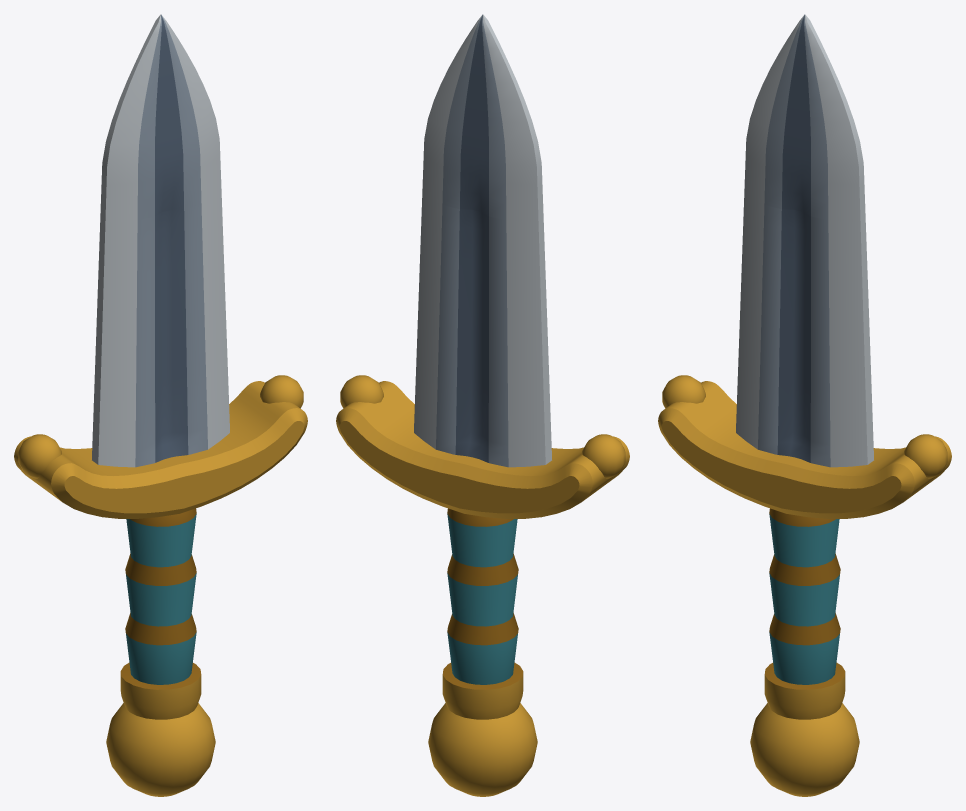
The model's file is Dagger_24.glb.
3 renders of one model, left to right at view 1: azimuth 30°, elevation 25°; view 2: azimuth 150°, elevation 25°; view 3: azimuth 330°, elevation 25°, orthographic.
Parts seen in each view (by area): view 1: Dagger_24; view 2: Dagger_24; view 3: Dagger_24.
Part boxes in pixels (x1=…): Dagger_24: x1=14, y1=14, x2=307, y2=796; Dagger_24: x1=336, y1=14, x2=629, y2=796; Dagger_24: x1=658, y1=14, x2=951, y2=796.
Size of the model in its own units: 1.49 by 3.94 by 0.504.
